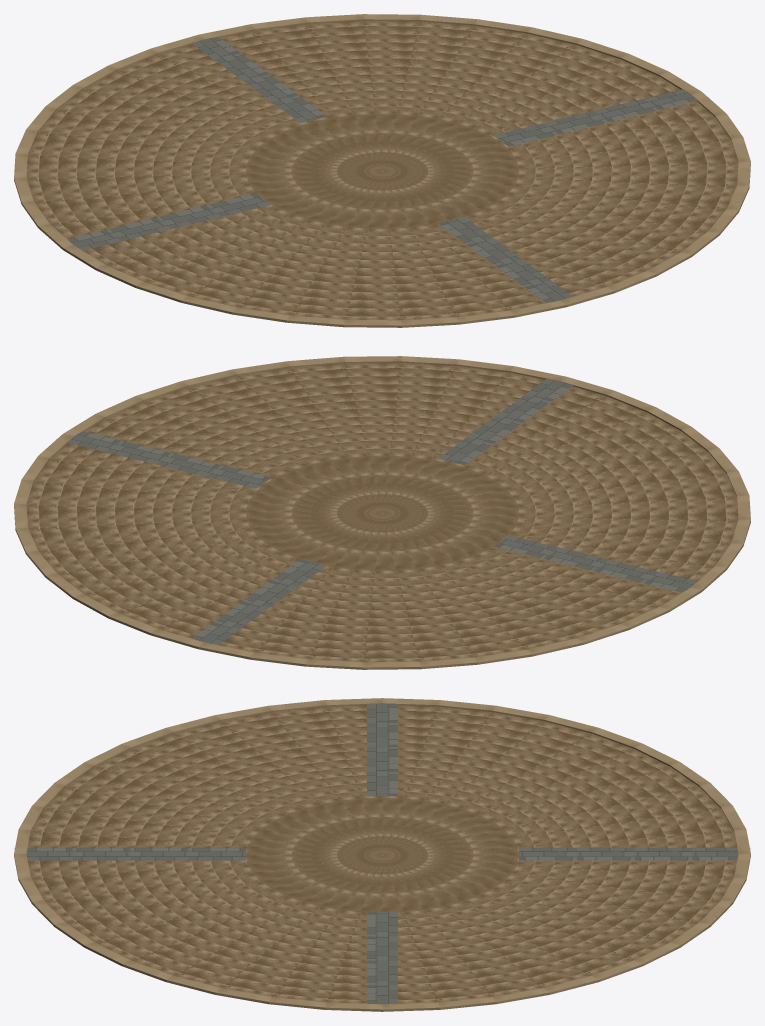
The model's file is city_small_base.glb.
The picture shows the model from 3 angles, top to bottom: view 1: azimuth 30°, elevation 25°; view 2: azimuth 150°, elevation 25°; view 3: azimuth 270°, elevation 25°; orthographic projection.
Visible parts, largest first — view 1: ae_sand_city_small_base; view 2: ae_sand_city_small_base; view 3: ae_sand_city_small_base.
Boxes of the visible parts, box(x1,y1,x2,y2) form: ae_sand_city_small_base: box(14, 14, 750, 327); ae_sand_city_small_base: box(14, 356, 750, 669); ae_sand_city_small_base: box(14, 698, 750, 1011).
Bounding box in the file's own units: 1.77 × 0.00606 × 1.77.
1 material, 1 textured.
